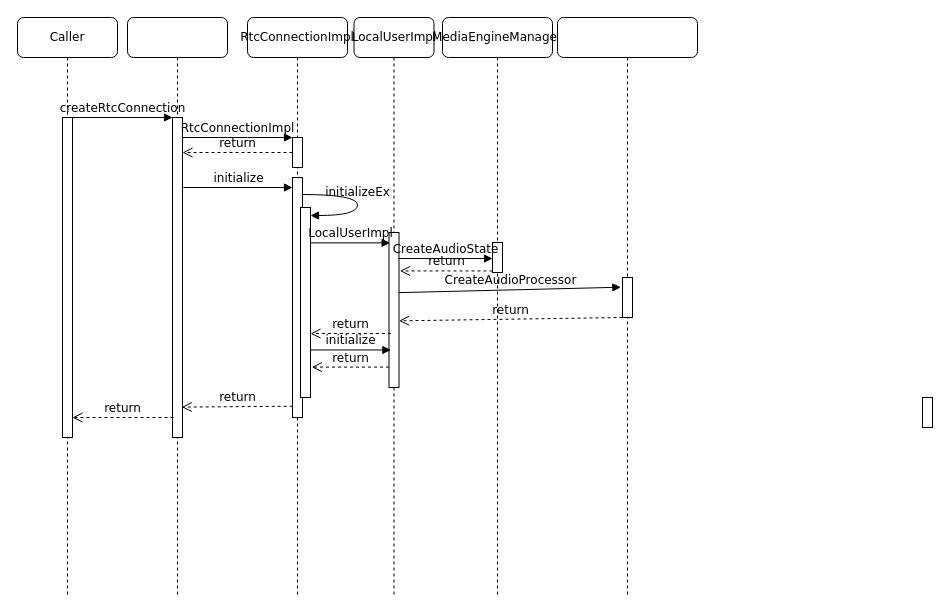
The diagram is 950 pixels wide and 615 high, and some of its shapes have lost their labels. The box of each missing label's shape, as (x1, y1, x2, y2) in pixels:
AgoraService: (126, 16, 228, 598)
WebrtcAudioEngineAdapter: (556, 16, 698, 598)
